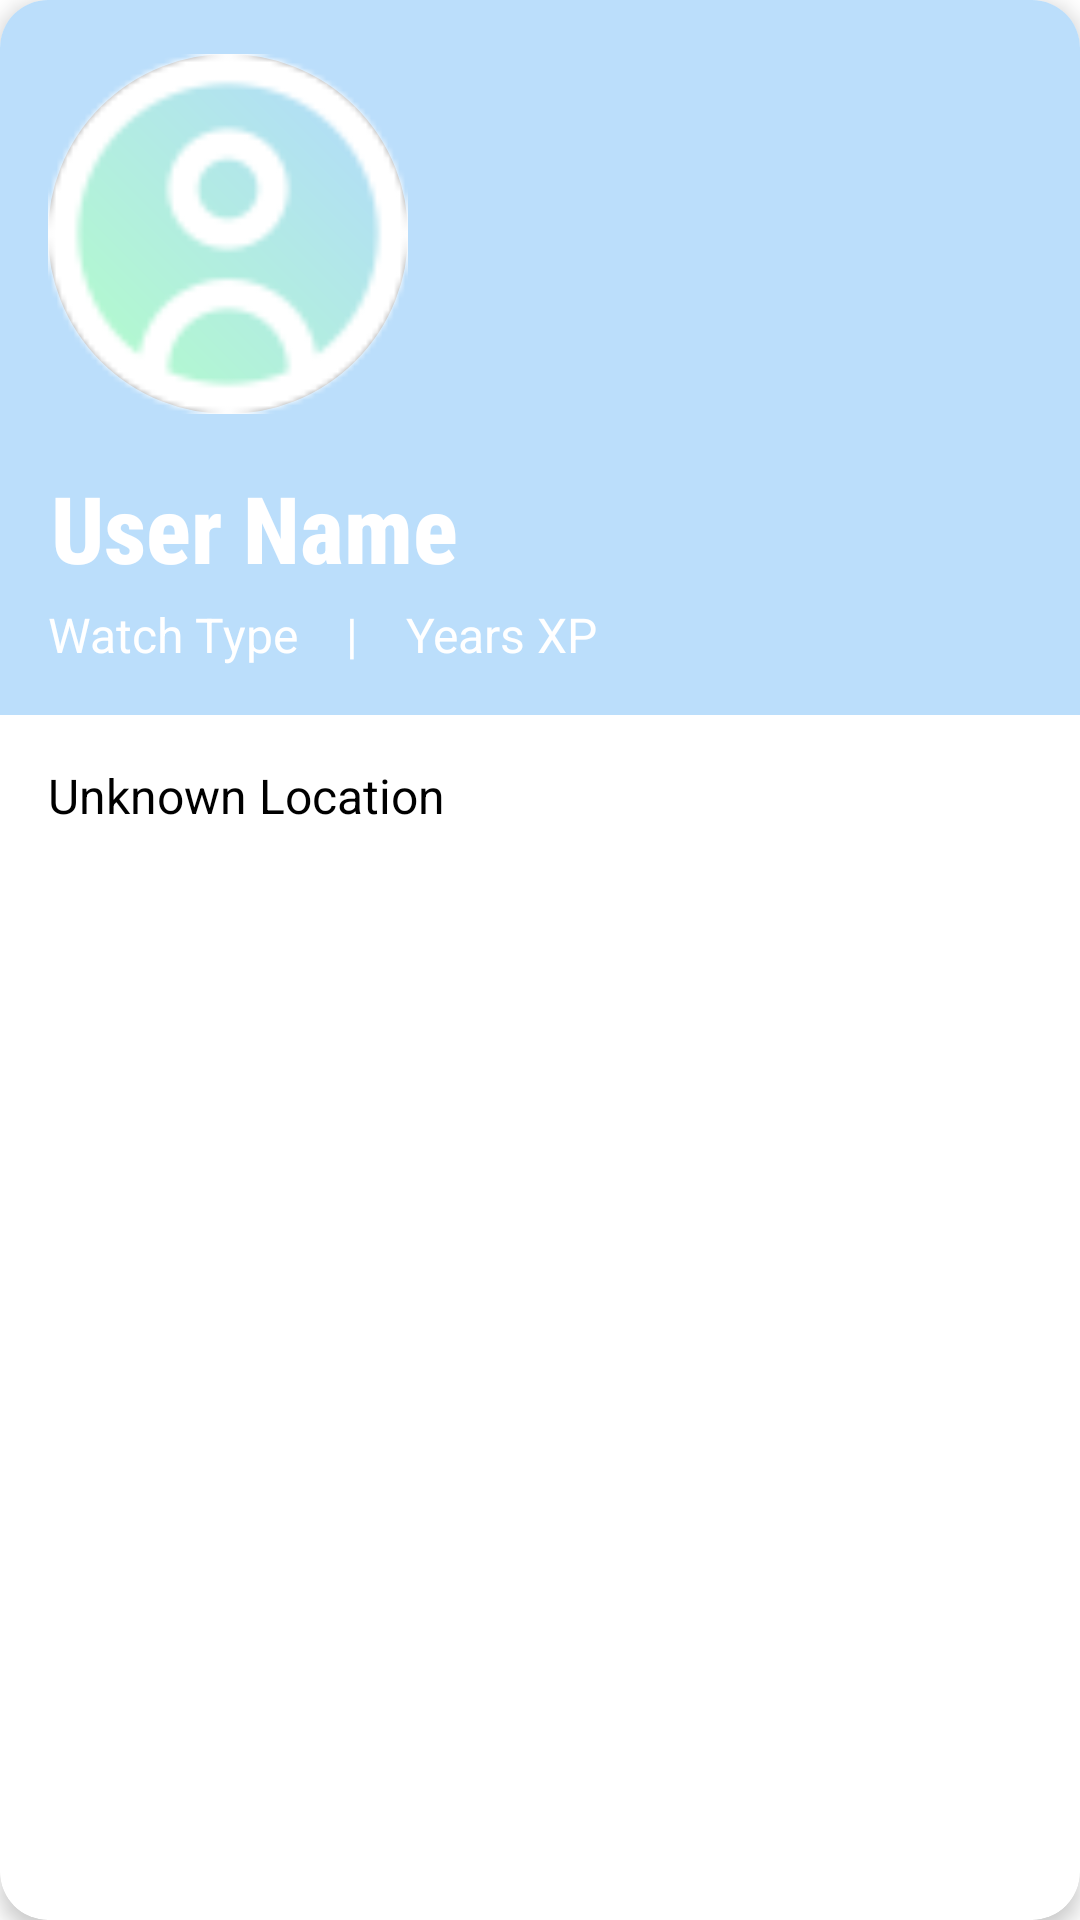

Where icons sit on this 1080×1920 app screen, as region(x1, y1, x2, y2):
circle user: region(48, 54, 408, 414)
